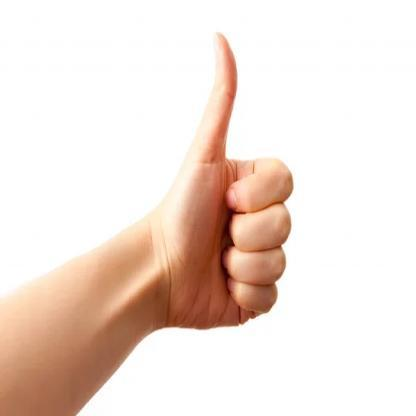thumb_up: (154, 28, 292, 330)
